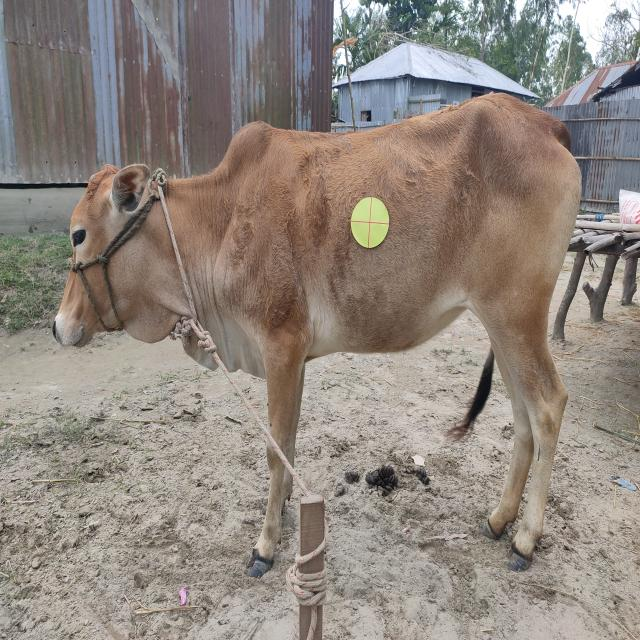badan_sapi: (229, 113, 569, 359)
sapi: (49, 84, 606, 585)
